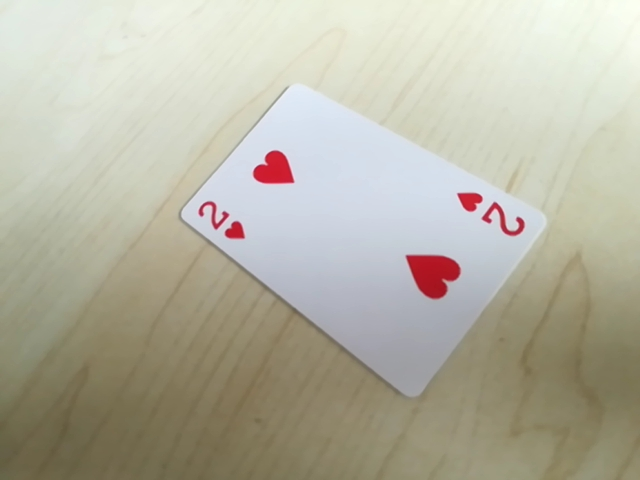hx 2: (453, 186, 531, 244), (189, 193, 249, 249)
